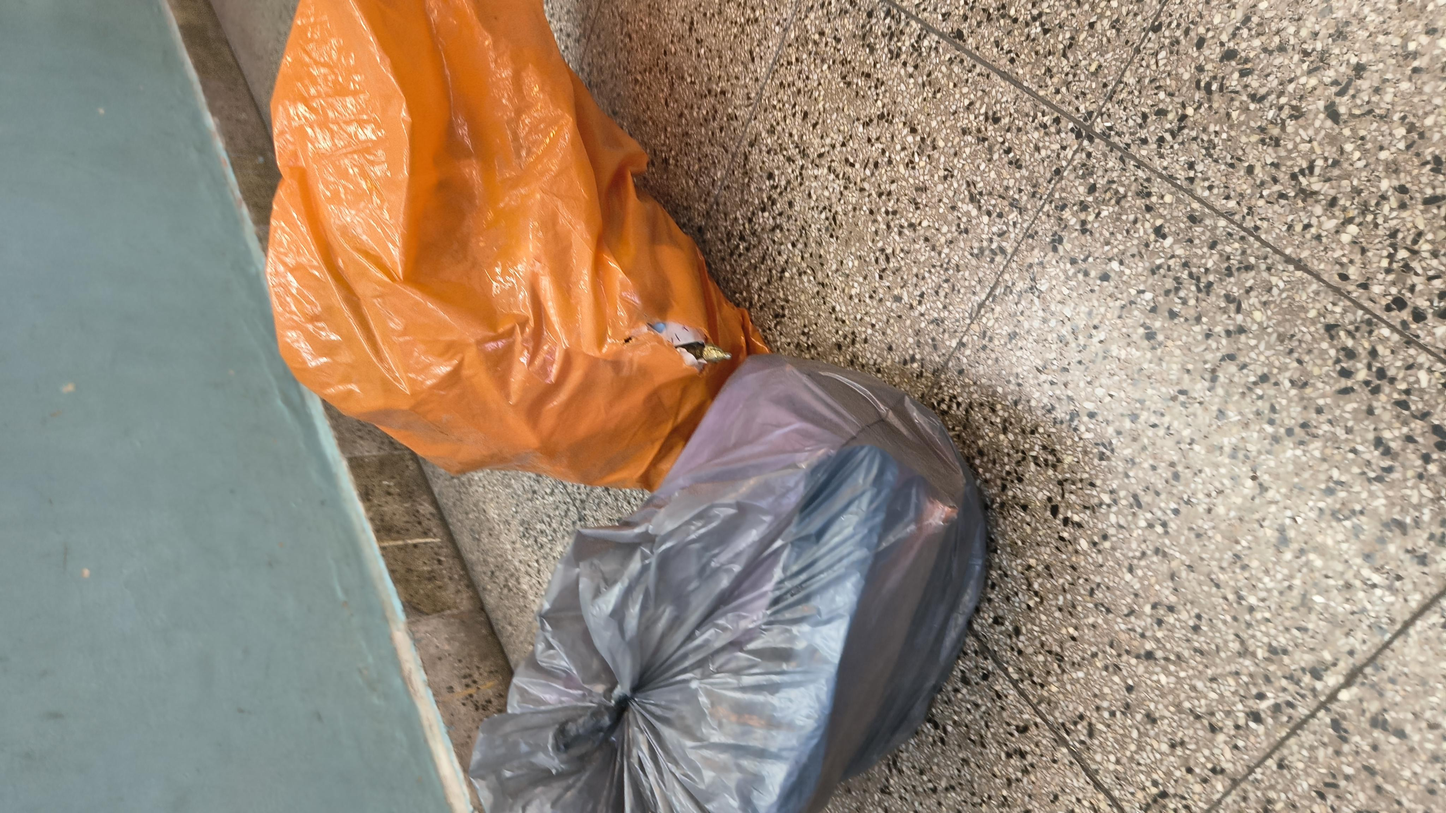Garbage: (0, 246, 854, 580), (565, 135, 1446, 457)
